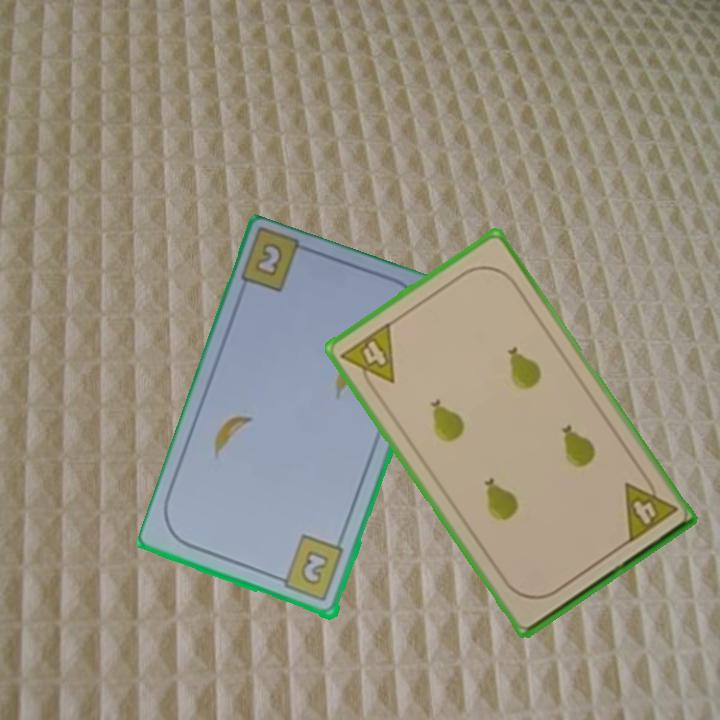2b: (272, 532, 347, 605), (254, 242, 283, 277)
4p: (337, 318, 398, 397), (620, 469, 680, 546)
